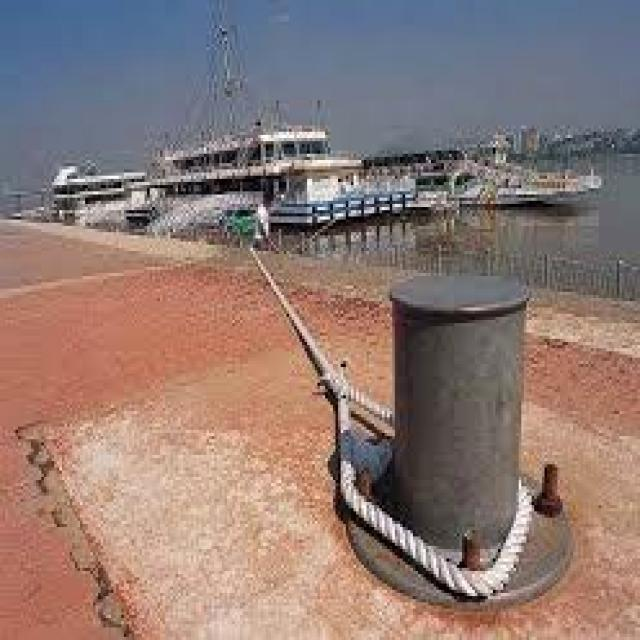bollard: (379, 246, 573, 610)
